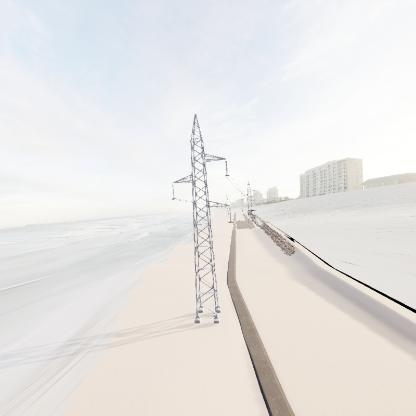tower: (168, 116, 232, 325)
